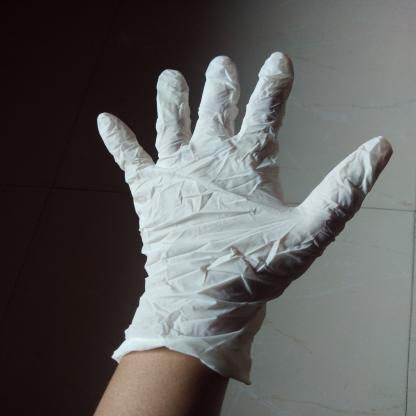gloved_hand: (83, 49, 399, 386)
